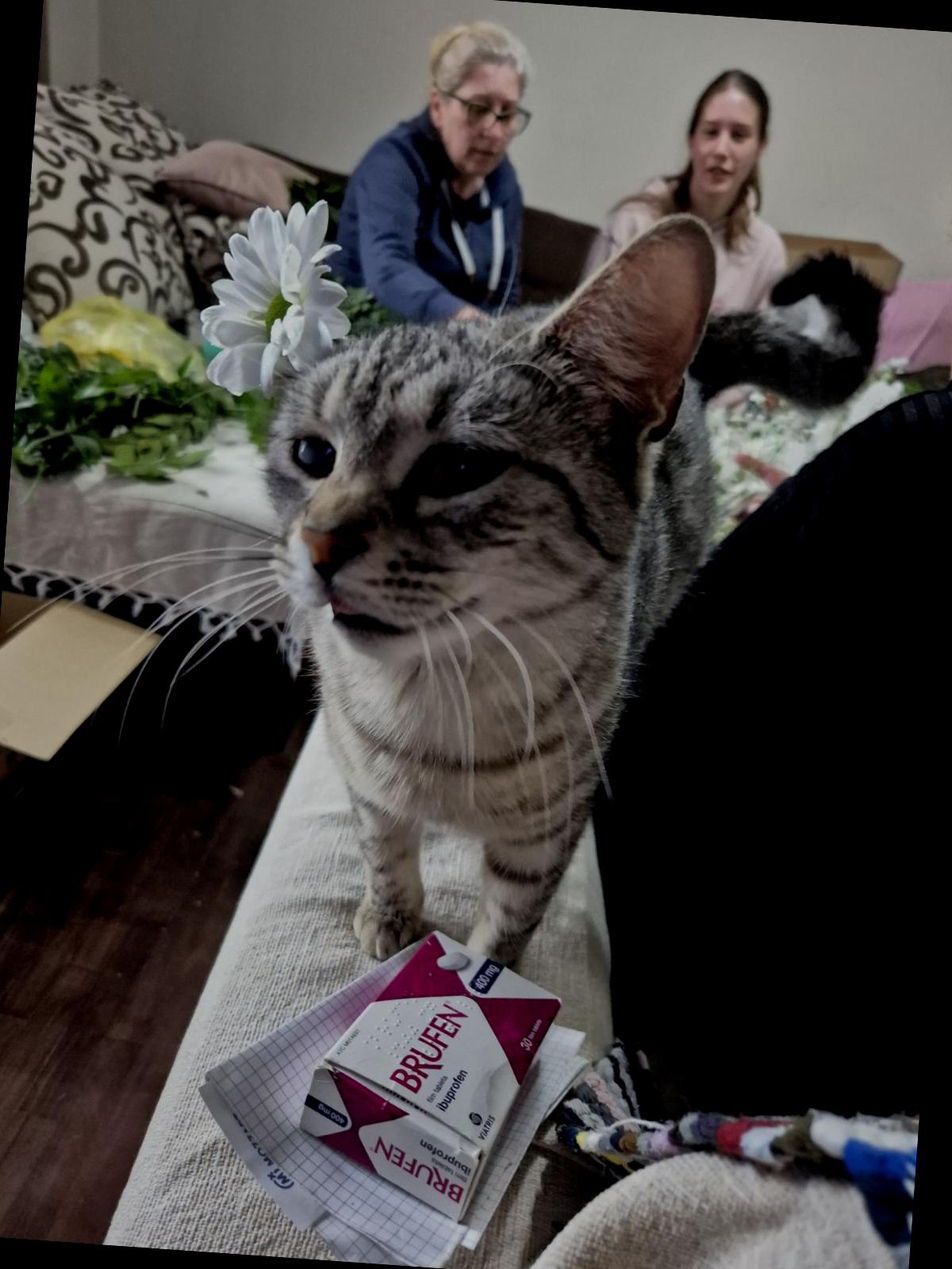macka: (238, 181, 744, 978)
